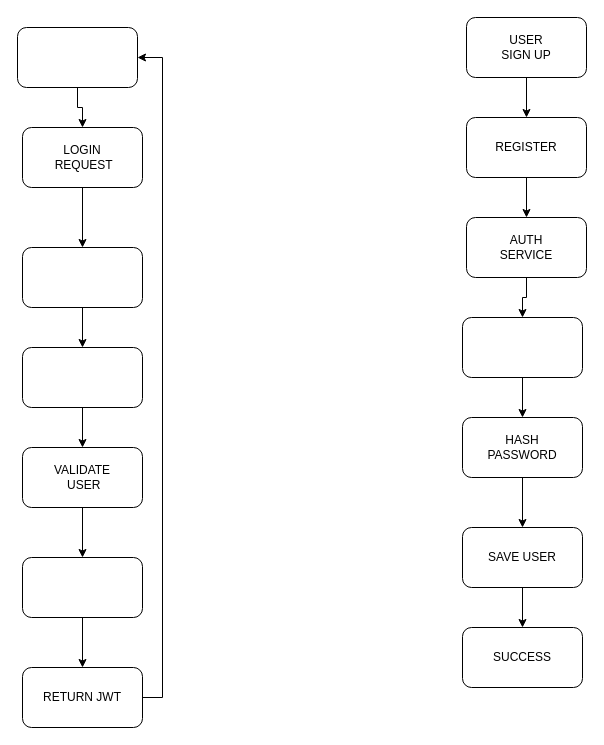
Image size: 604x745. Some labels were removed from this diagram. Here are the shapes that lost their labels. From the top down, the box of each, then its label:
(16, 26, 138, 88): USER
(22, 246, 142, 308): API GATE WAY
(462, 316, 582, 378): CHECK EMAIL
(22, 346, 142, 408): AUTHENTICATION SERVICE
(22, 556, 142, 618): GENERATE JWT
